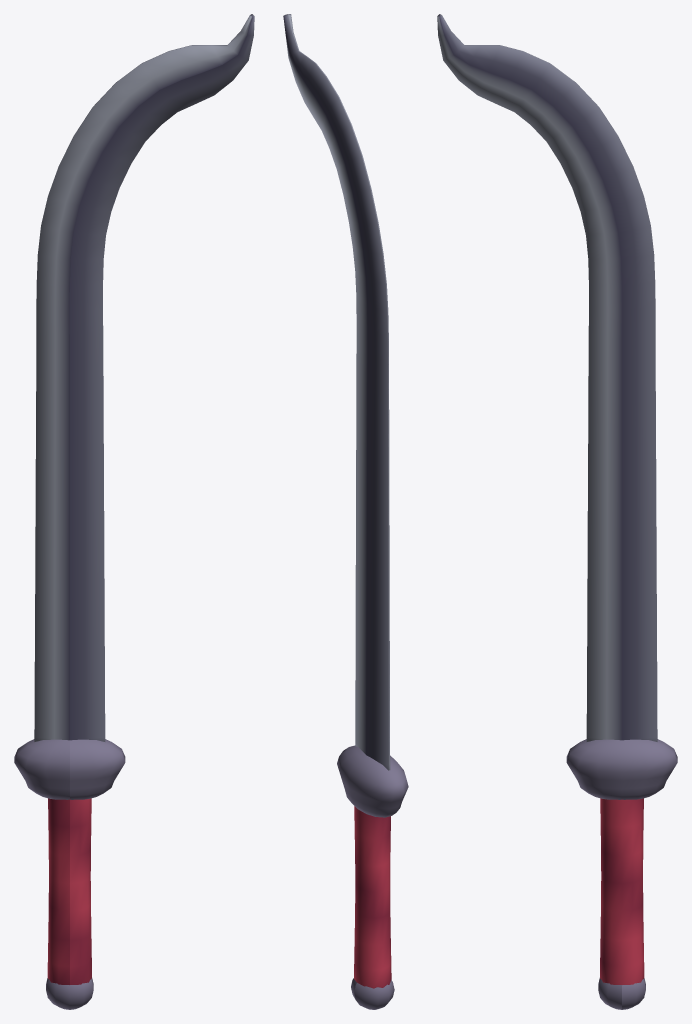
The model's file is sentinel_blade.glb.
3 renders of one model, left to right at view 1: azimuth 90°, elevation 25°; view 2: azimuth 210°, elevation 25°; view 3: azimuth 270°, elevation 25°, orthographic. The views are drawn at different scales.
Parts seen in each view (by area): view 1: sentinel_blade; view 2: sentinel_blade; view 3: sentinel_blade.
Boxes of the visible parts, x1,y1,x2,y2 form: sentinel_blade: [14, 14, 254, 1009]; sentinel_blade: [283, 14, 408, 1009]; sentinel_blade: [437, 14, 677, 1009].
Size of the model in its own units: 0.052 by 0.9605 by 0.2109.
